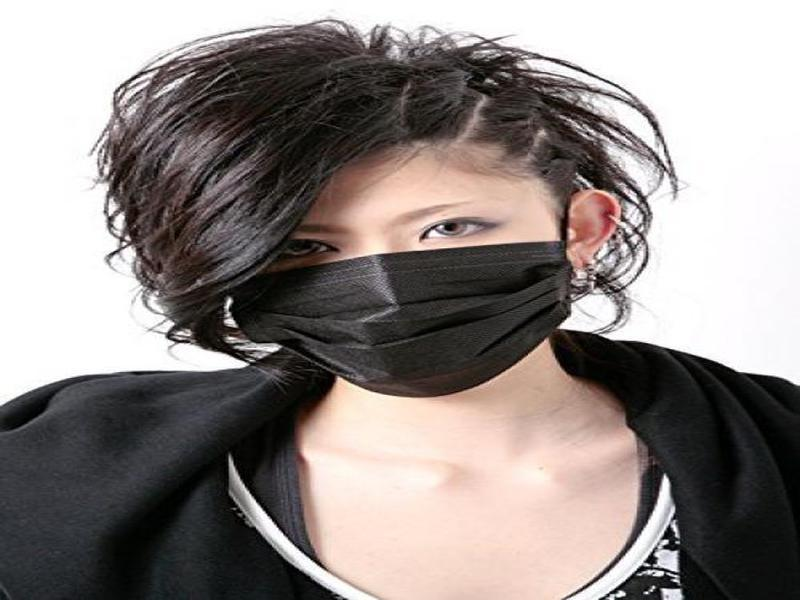with_mask: (237, 135, 576, 402)
